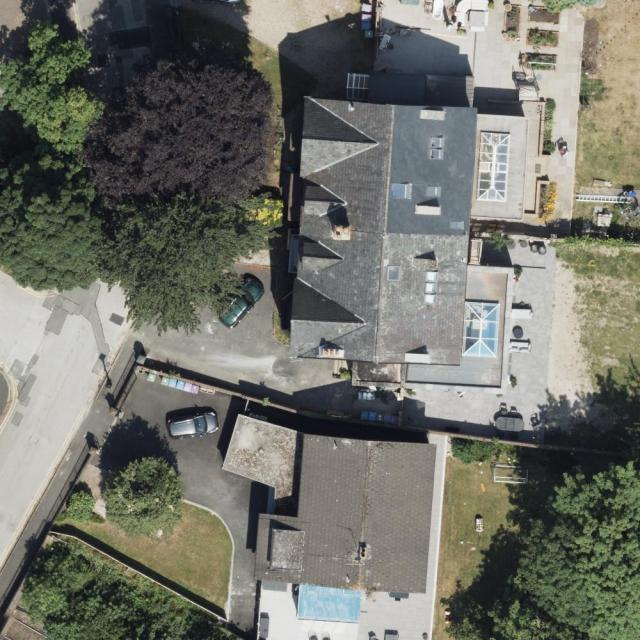roof: (287, 72, 528, 393), (218, 416, 436, 624)
skylight: (298, 582, 363, 623), (477, 129, 511, 201), (461, 298, 500, 358), (423, 267, 440, 309), (428, 133, 448, 163), (390, 181, 415, 203), (386, 260, 405, 285), (425, 183, 442, 197), (449, 219, 465, 233)
